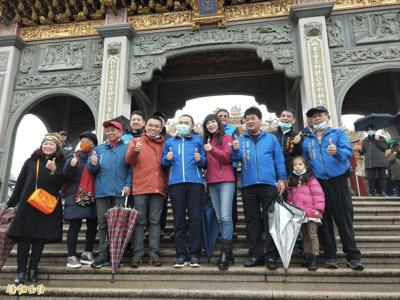mask_weared_incorrect: (311, 114, 328, 129), (145, 122, 161, 137), (280, 114, 293, 129), (293, 161, 306, 175)
with_mask: (177, 120, 193, 135), (79, 139, 94, 152), (367, 128, 375, 137)
without_mask: (41, 141, 57, 155), (245, 116, 261, 130), (105, 128, 120, 141), (205, 118, 218, 133), (130, 118, 144, 130), (216, 113, 229, 125), (58, 134, 67, 142)
